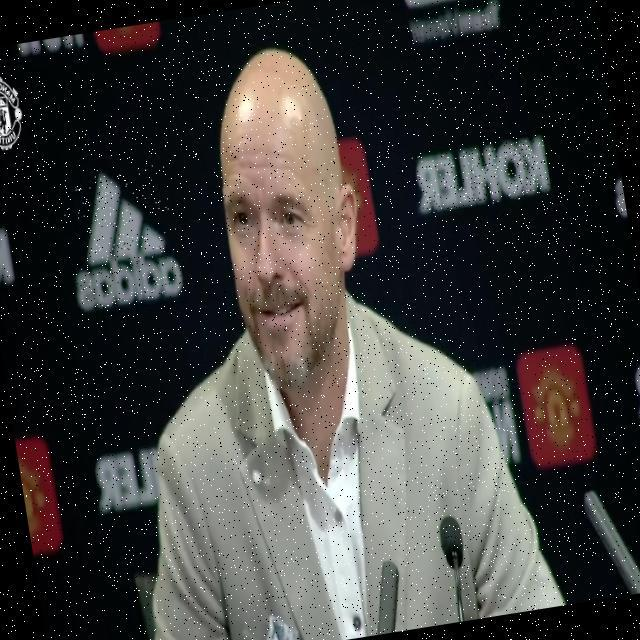Adidas: (59, 159, 187, 312)
Kohler: (410, 135, 552, 216)
TeamViewer: (401, 0, 503, 44)
